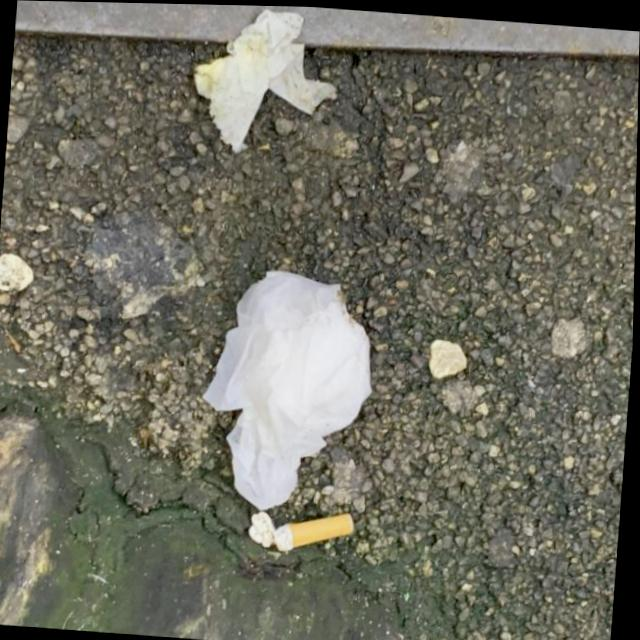Paper: (194, 260, 380, 515), (189, 3, 343, 157)
